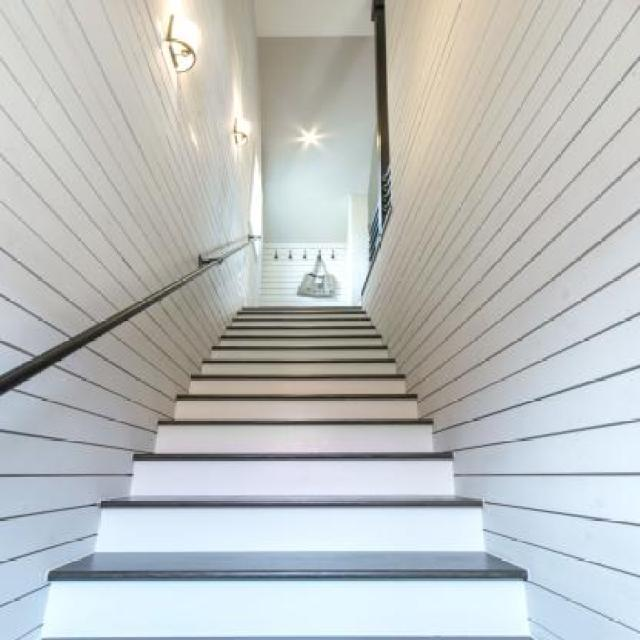stair: (0, 274, 542, 628)
